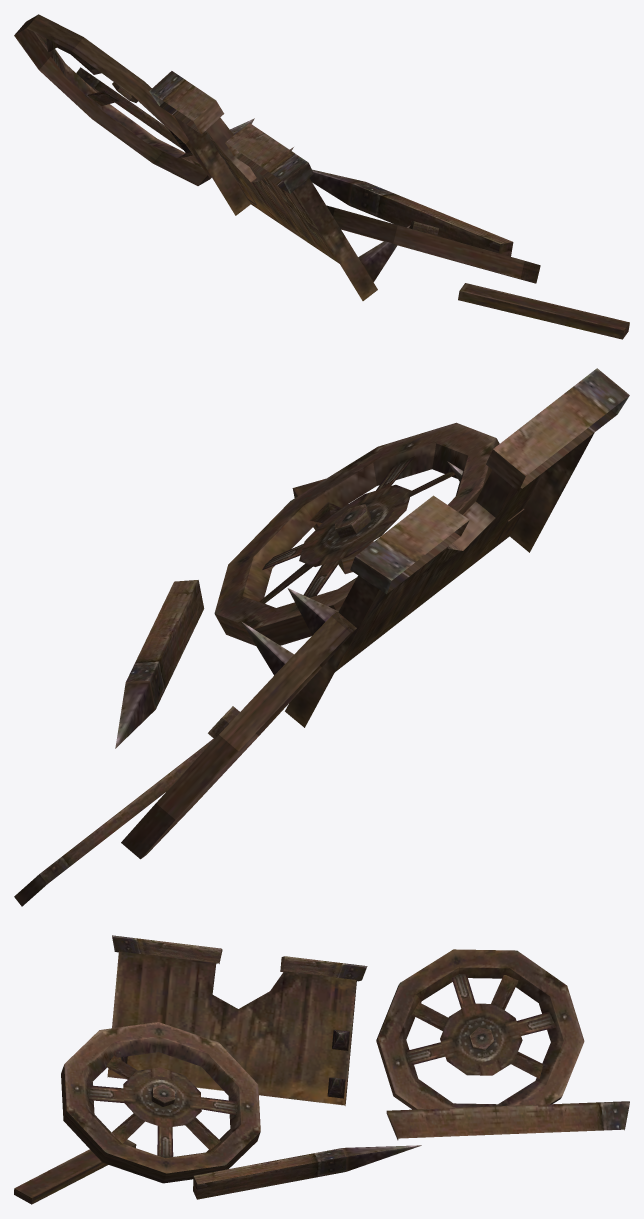
The model's file is SC001Jwujian_17.FBX.
3 views of the same model, one above another, from view 1: azimuth 30°, elevation 25°; view 2: azimuth 150°, elevation 25°; view 3: azimuth 270°, elevation 25° (orthographic). The views are drawn at different scales.
Parts seen in each view (by area): view 1: SC001Jwujian_17; view 2: SC001Jwujian_17; view 3: SC001Jwujian_17.
Part boxes in pixels (bbox=[...]): SC001Jwujian_17: bbox=[14, 14, 629, 339]; SC001Jwujian_17: bbox=[14, 368, 629, 906]; SC001Jwujian_17: bbox=[14, 935, 629, 1204].
Size of the model in its own units: 1.55 by 0.9697 by 3.31.
